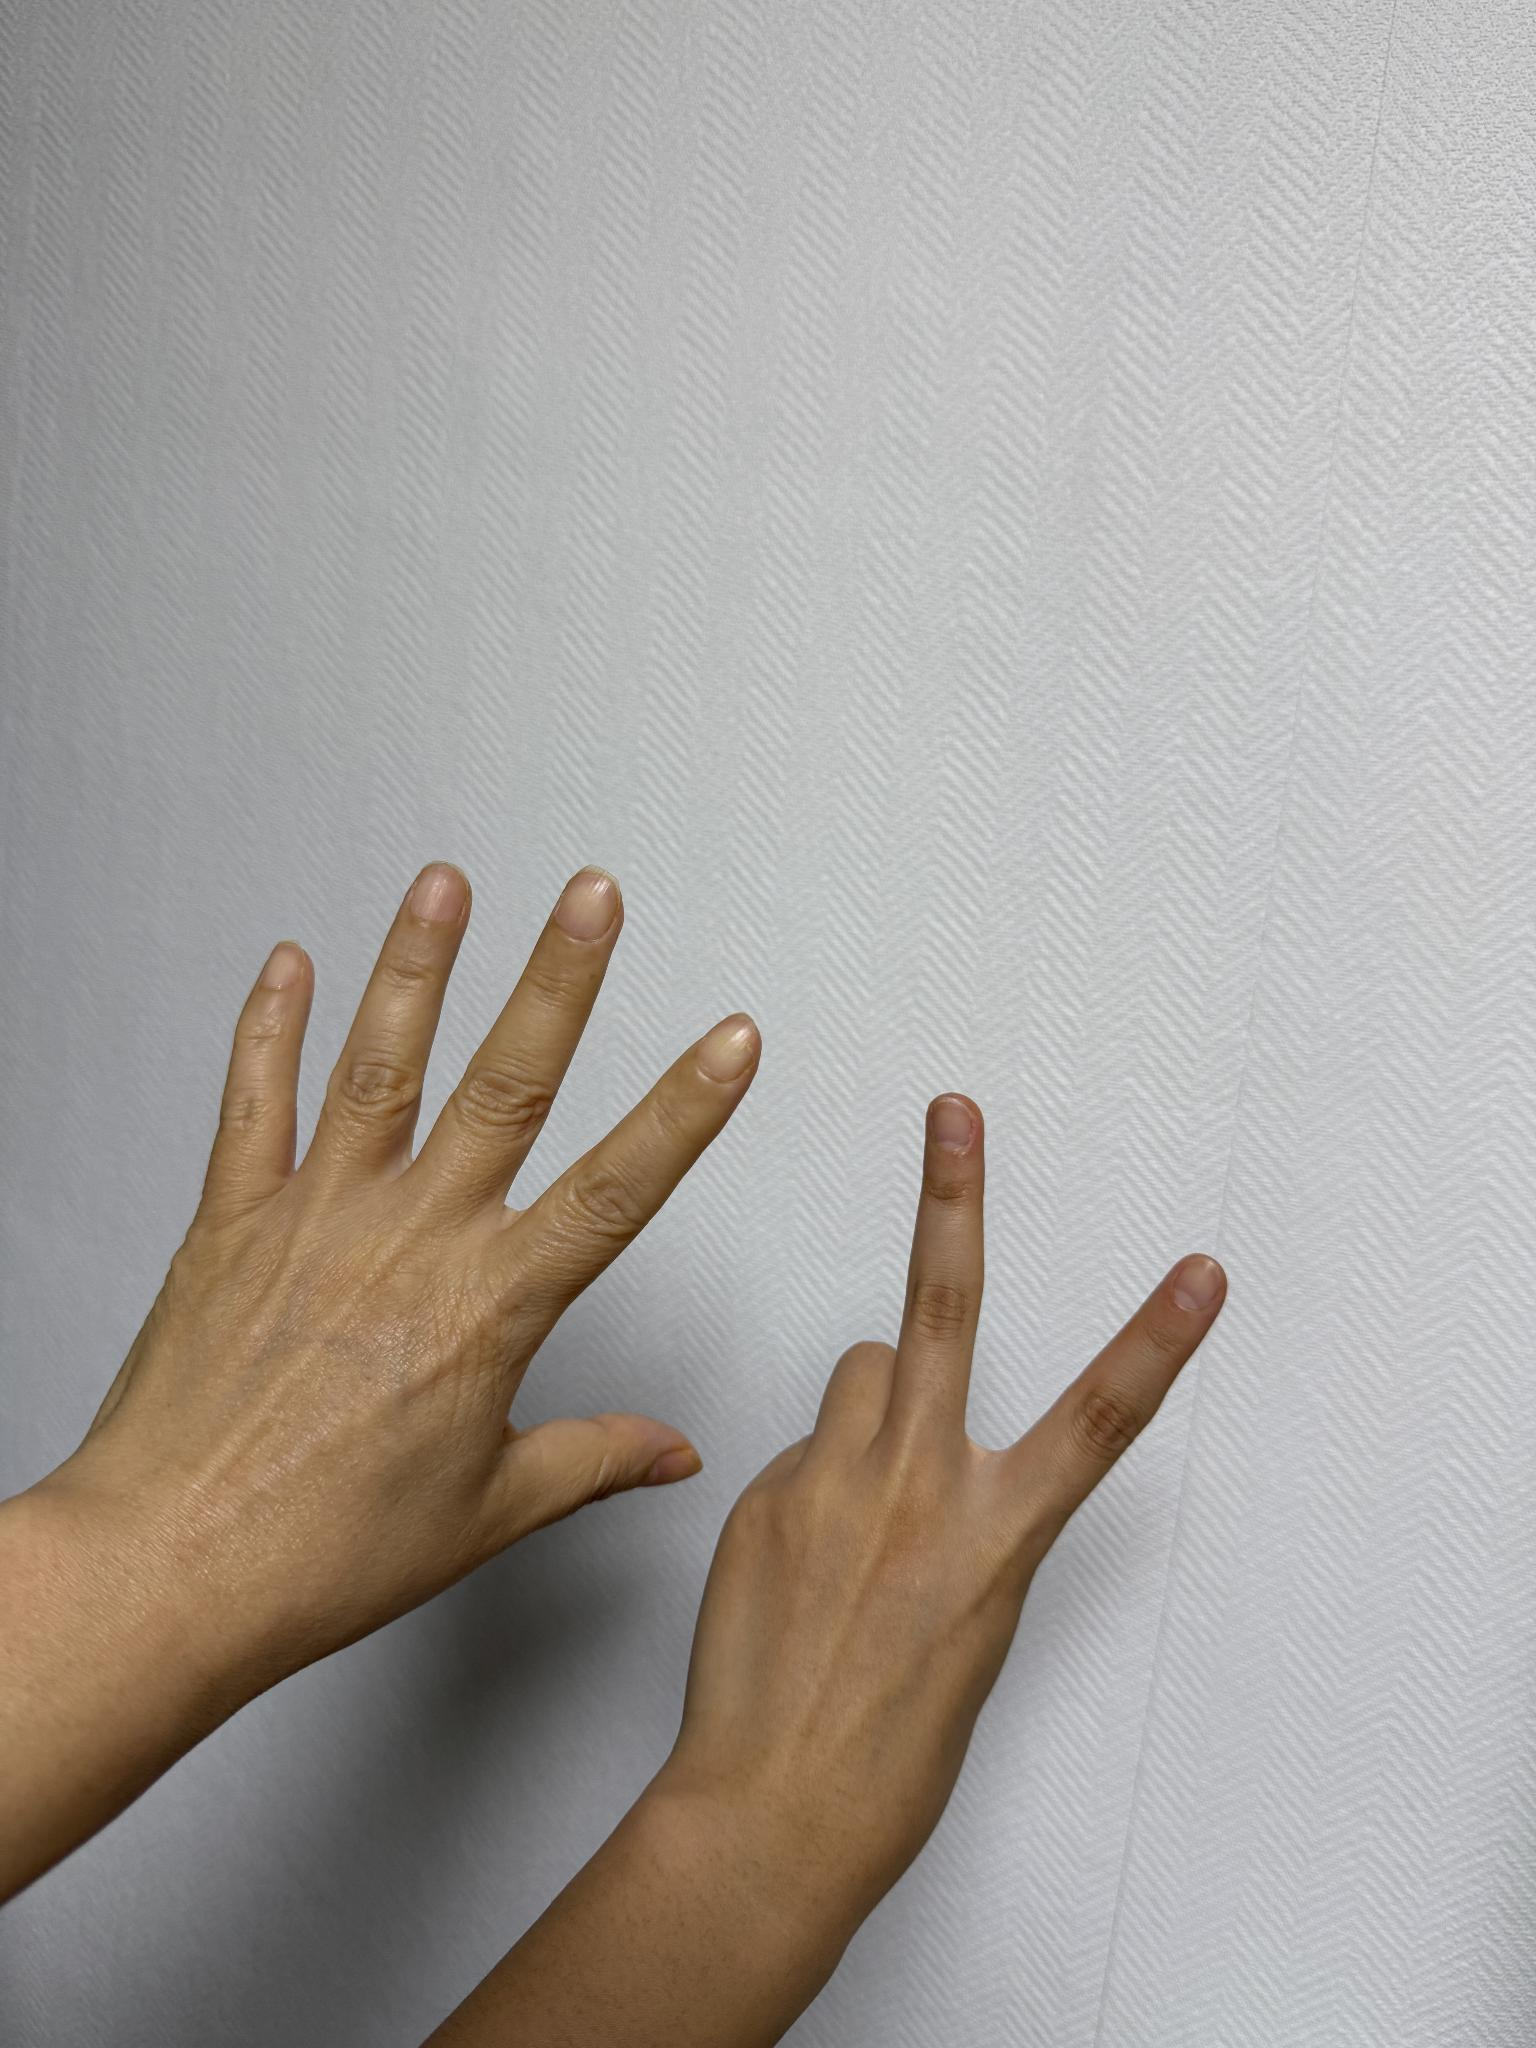v: (666, 1069, 1234, 1975)
